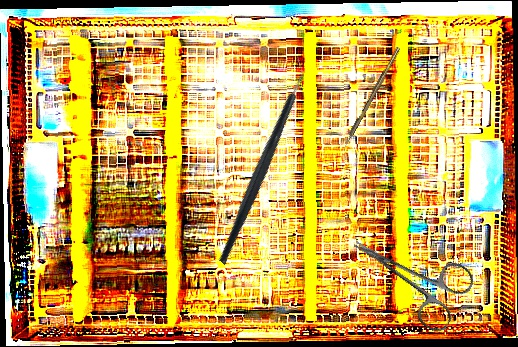Chopper: (158, 55, 363, 265)
Hook Surgical: (339, 46, 402, 152)
Iris Scissors: (337, 211, 479, 336)
